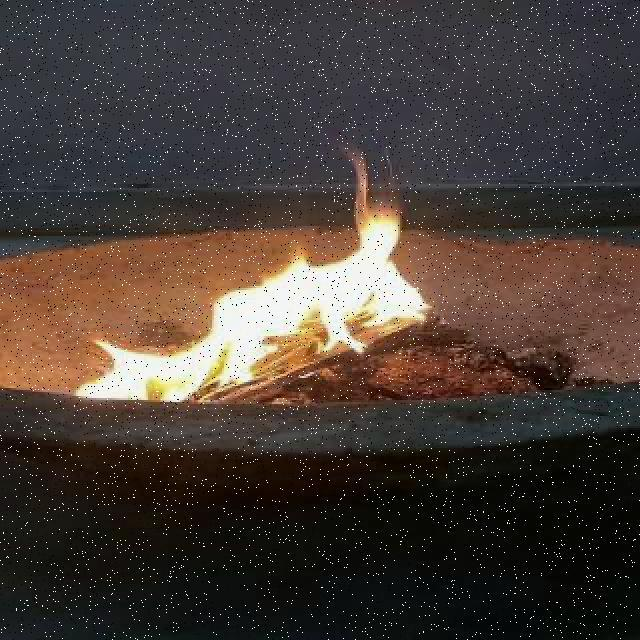Fire: (82, 190, 456, 420)
